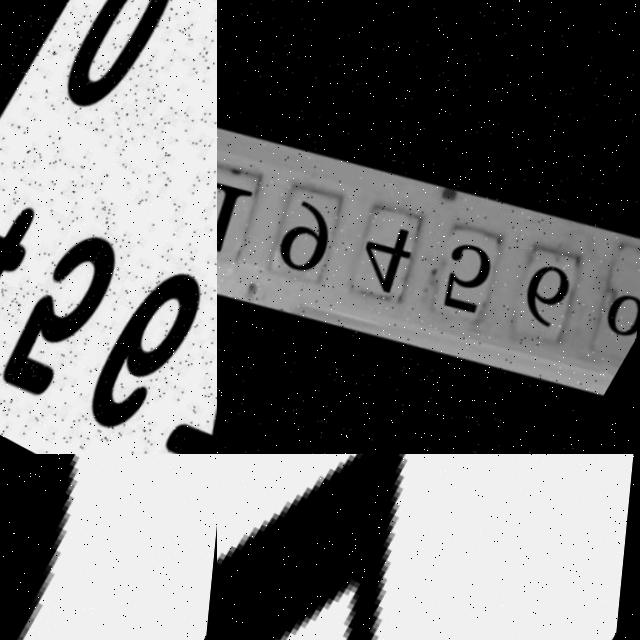0: (7, 0, 217, 172), (0, 454, 190, 640), (578, 255, 640, 363)
1: (217, 152, 282, 281)
4: (0, 162, 82, 407), (330, 193, 448, 318)
5: (0, 192, 169, 436), (412, 213, 527, 336)
6: (52, 233, 217, 454), (494, 233, 603, 350)
7: (151, 263, 217, 454)
9: (251, 175, 367, 297)
Y: (217, 454, 640, 640)
